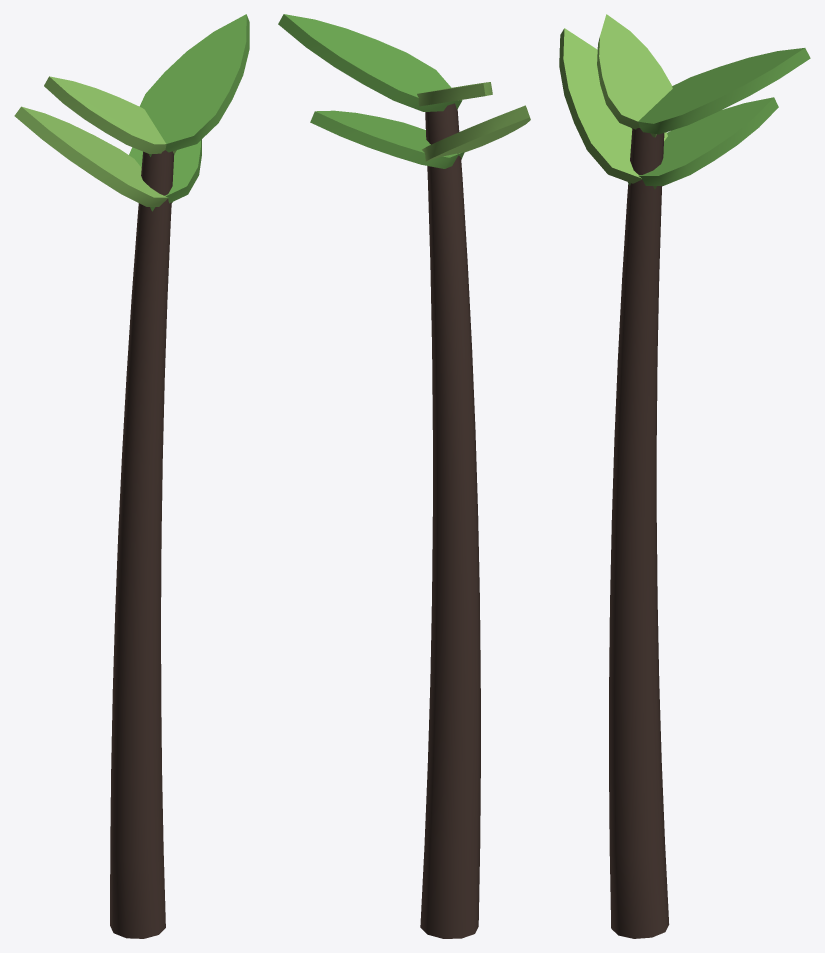
The picture shows the model from 3 angles, left to right: view 1: azimuth 30°, elevation 25°; view 2: azimuth 150°, elevation 25°; view 3: azimuth 330°, elevation 25°; orthographic projection. The views are drawn at different scales.
Visible parts, largest first — view 1: body; view 2: body; view 3: body.
Boxes of the visible parts, x1=… form: body: x1=14, y1=14, x2=249, y2=938; body: x1=278, y1=14, x2=530, y2=938; body: x1=559, y1=14, x2=810, y2=938.
Size of the model in its own units: 0.1238 by 0.4277 by 0.0578.
Materials: 1 (1 with a texture image).
